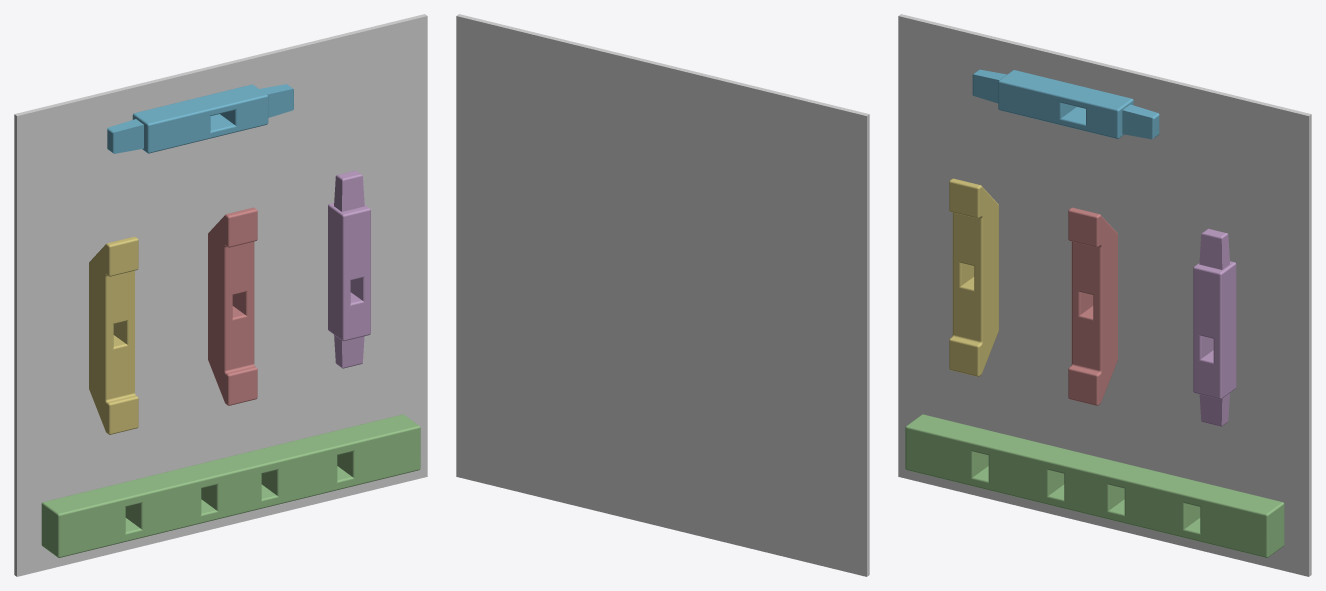
The model's file is pickup_layout.glb.
3 views of the same model, side by side, from view 1: azimuth 30°, elevation 25°; view 2: azimuth 150°, elevation 25°; view 3: azimuth 330°, elevation 25° (orthographic).
Visible parts, largest first — view 1: world, 6.obj, 0.obj, 1.obj, 3.obj, 2.obj; view 2: world; view 3: world, 6.obj, 0.obj, 1.obj, 3.obj, 2.obj.
Boxes of the visible parts, x1,y1,x2,y2 form: world: (14, 14, 427, 576); 6.obj: (41, 414, 420, 557); 0.obj: (208, 207, 257, 405); 1.obj: (89, 236, 138, 434); 3.obj: (328, 170, 370, 368); 2.obj: (107, 84, 293, 153); world: (456, 14, 869, 576); world: (898, 14, 1311, 576); 6.obj: (905, 414, 1284, 557); 0.obj: (1068, 207, 1117, 405); 1.obj: (949, 178, 998, 376); 3.obj: (1193, 228, 1236, 426); 2.obj: (972, 69, 1159, 139).
Bounding box in the file's own units: 17.24 × 18.49 × 1.72.
